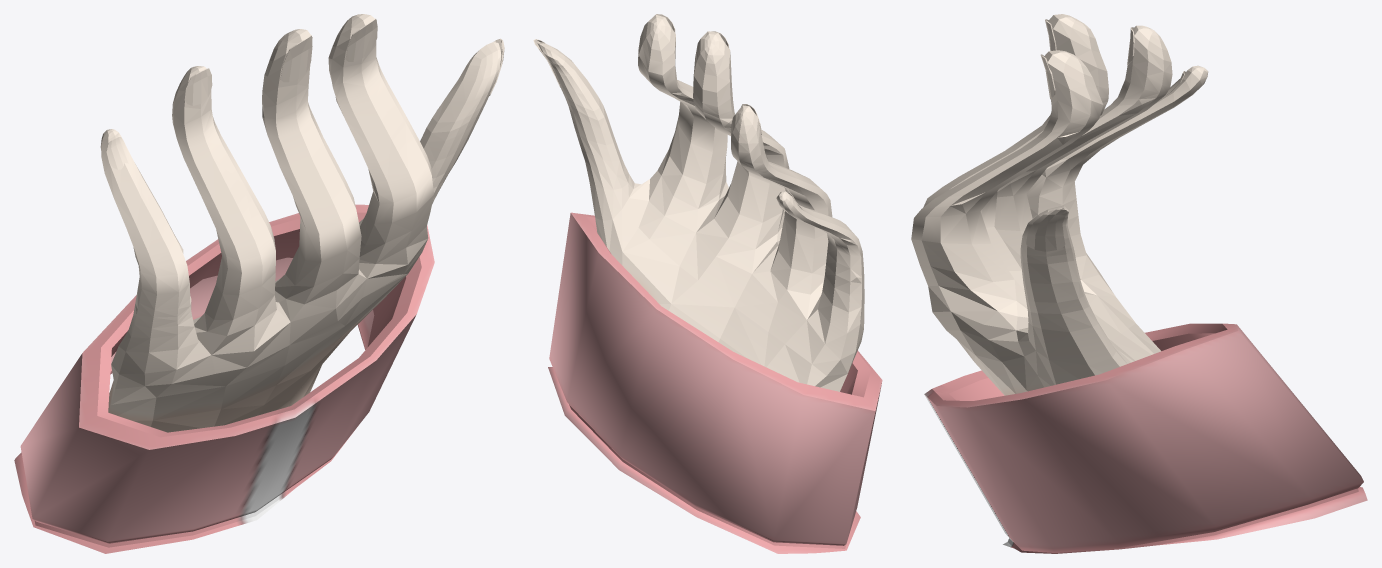
Rendered from HitoriFretHand.obj.
3 views of the same model, side by side, from view 1: azimuth 30°, elevation 25°; view 2: azimuth 150°, elevation 25°; view 3: azimuth 270°, elevation 25° (orthographic). The views are drawn at different scales.
Bounding box in the file's own units: 0.1752 × 0.2006 × 0.1353.
2 materials, 2 textured.
